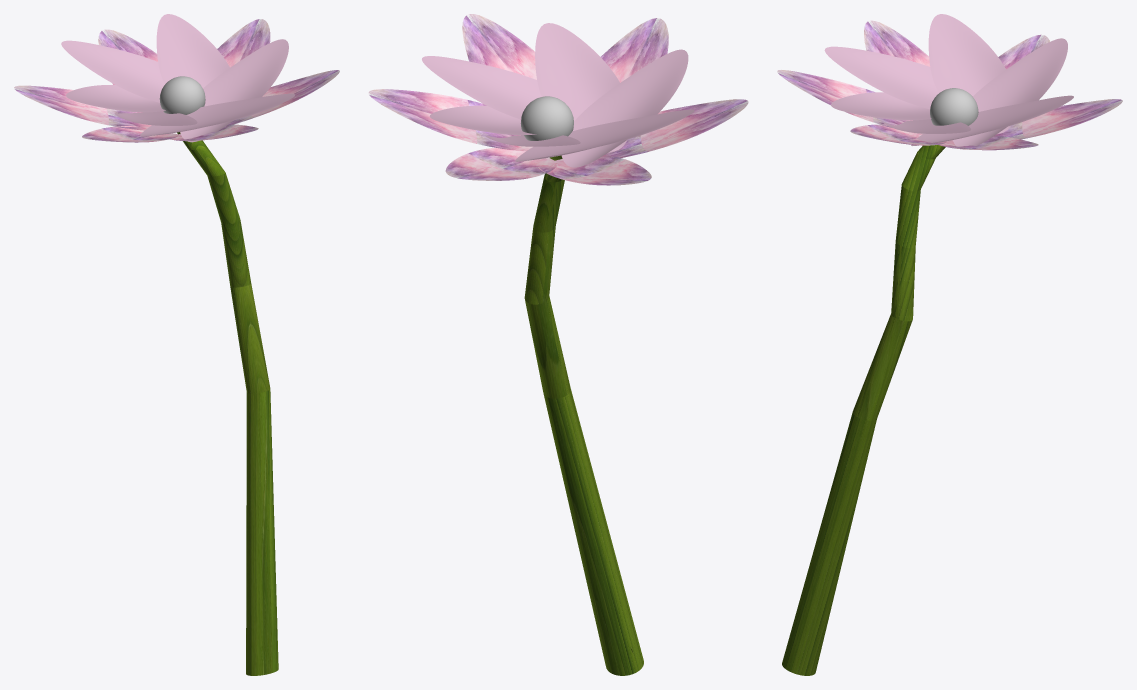
The model's file is Blume1.fbx.
3 views of the same model, side by side, from view 1: azimuth 30°, elevation 25°; view 2: azimuth 150°, elevation 25°; view 3: azimuth 270°, elevation 25° (orthographic). The views are drawn at different scales.
Visible parts, largest first — view 1: Petall, Cylinder, LargePetall, Sphere; view 2: Petall, LargePetall, Cylinder, Sphere; view 3: Petall, Cylinder, LargePetall, Sphere.
Boxes of the visible parts, x1=… form: Petall: x1=61, y1=14, x2=294, y2=142; Cylinder: x1=177, y1=132, x2=278, y2=675; LargePetall: x1=14, y1=19, x2=339, y2=142; Sphere: x1=159, y1=76, x2=205, y2=114; Petall: x1=422, y1=23, x2=694, y2=167; LargePetall: x1=368, y1=14, x2=748, y2=185; Cylinder: x1=524, y1=155, x2=643, y2=675; Sphere: x1=520, y1=96, x2=573, y2=140; Petall: x1=824, y1=14, x2=1073, y2=146; Cylinder: x1=782, y1=145, x2=945, y2=675; LargePetall: x1=777, y1=20, x2=1122, y2=150; Sphere: x1=930, y1=88, x2=978, y2=125.
Bounding box in the file's own units: 121 × 135 × 256.
